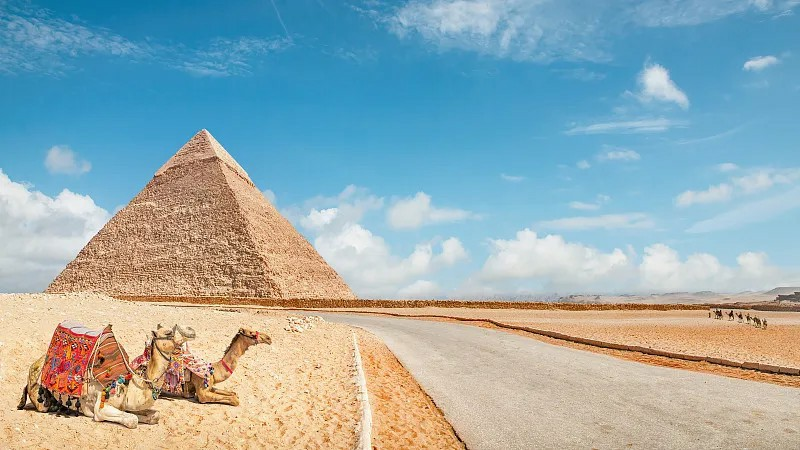Pyramid: (46, 127, 359, 302)
